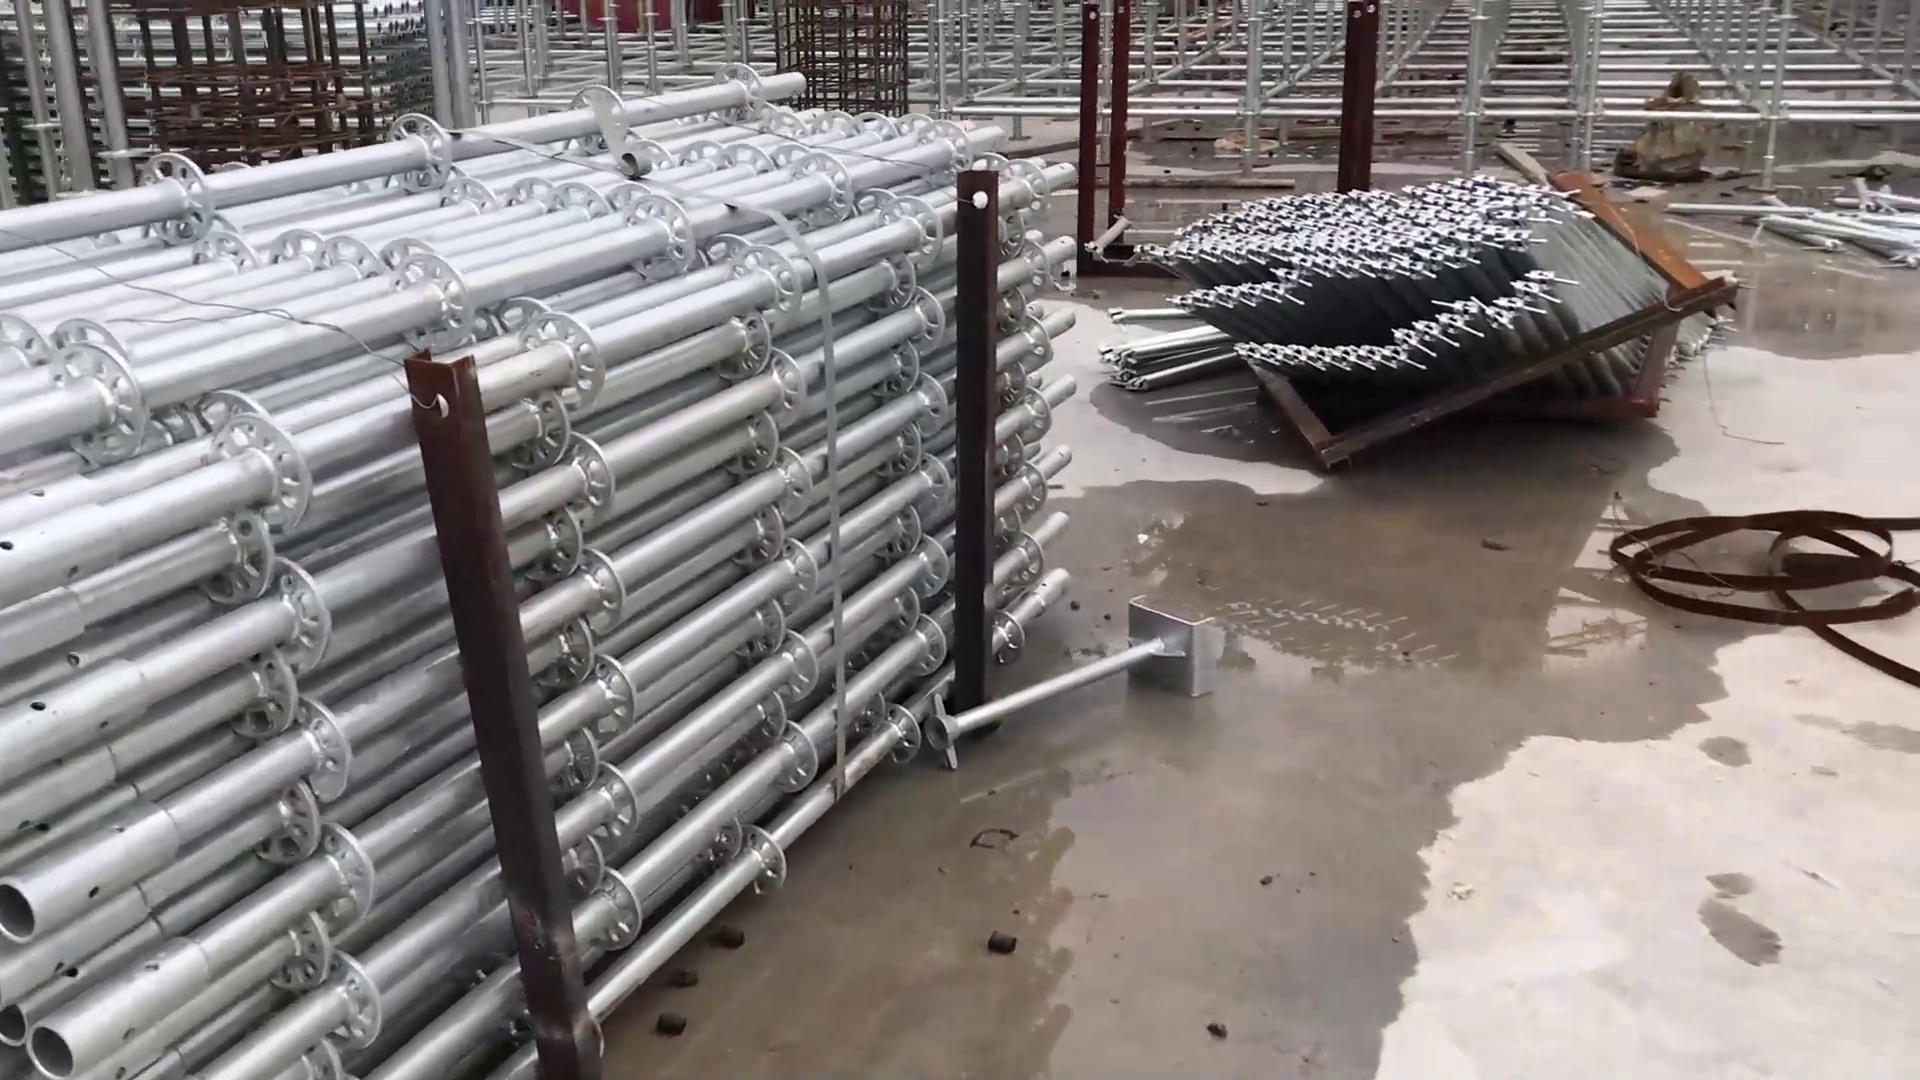scaffold: (1, 67, 1075, 1075), (1121, 165, 1712, 425)
